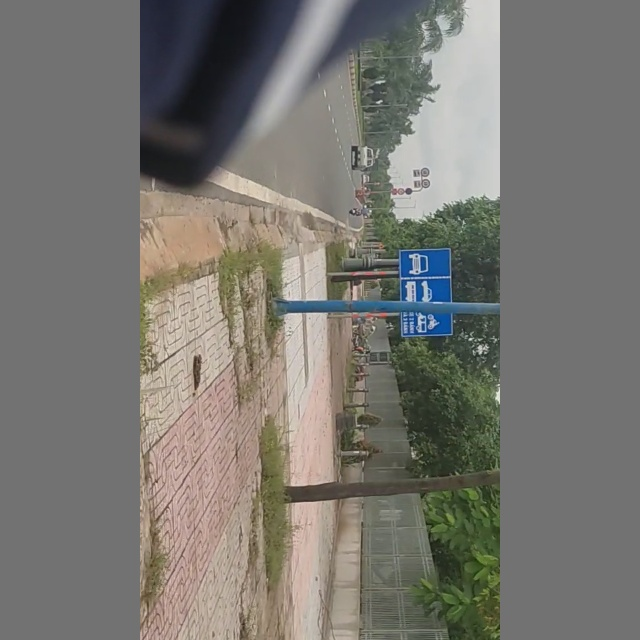R.415a: (398, 247, 457, 337)
